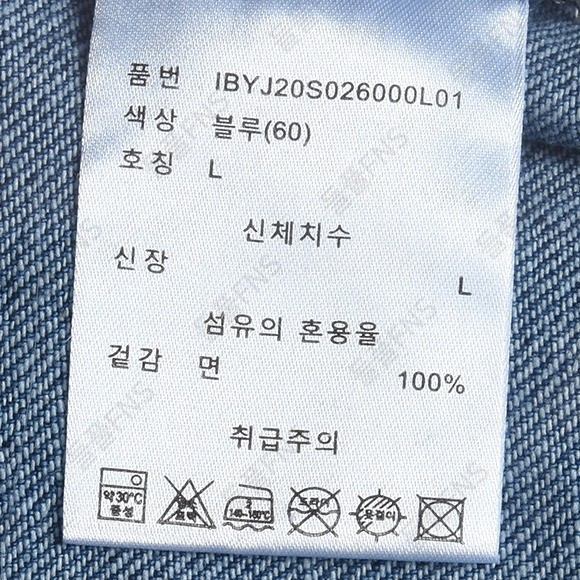KR_hang_dry_in_shade: (349, 488, 406, 545)
KR_iron_medium_temp_with_cloth: (220, 474, 279, 536)
KR_no_chlorine_bleach: (155, 471, 217, 532)
KR_no_dry_clean: (281, 481, 342, 539)
KR_no_tumble_dry: (412, 489, 469, 550)
KR_wash_warm_30_neutral: (96, 463, 149, 527)
